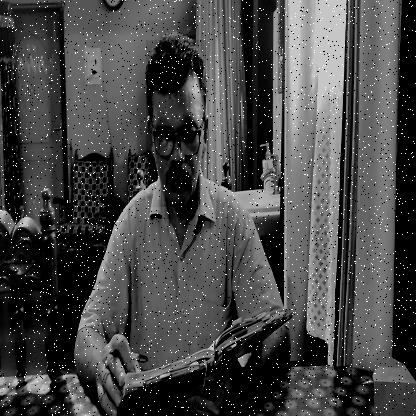Normal: (146, 40, 206, 207)
